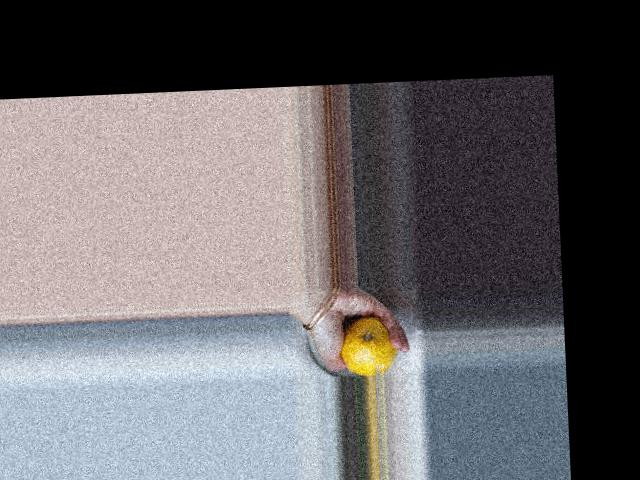lemon: (342, 315, 397, 375)
